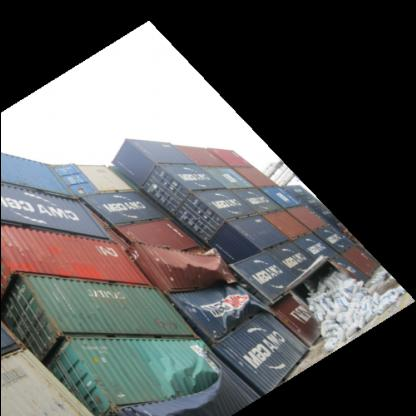Damage: (150, 344, 226, 410), (286, 256, 358, 323), (199, 286, 267, 328), (152, 246, 230, 278)
